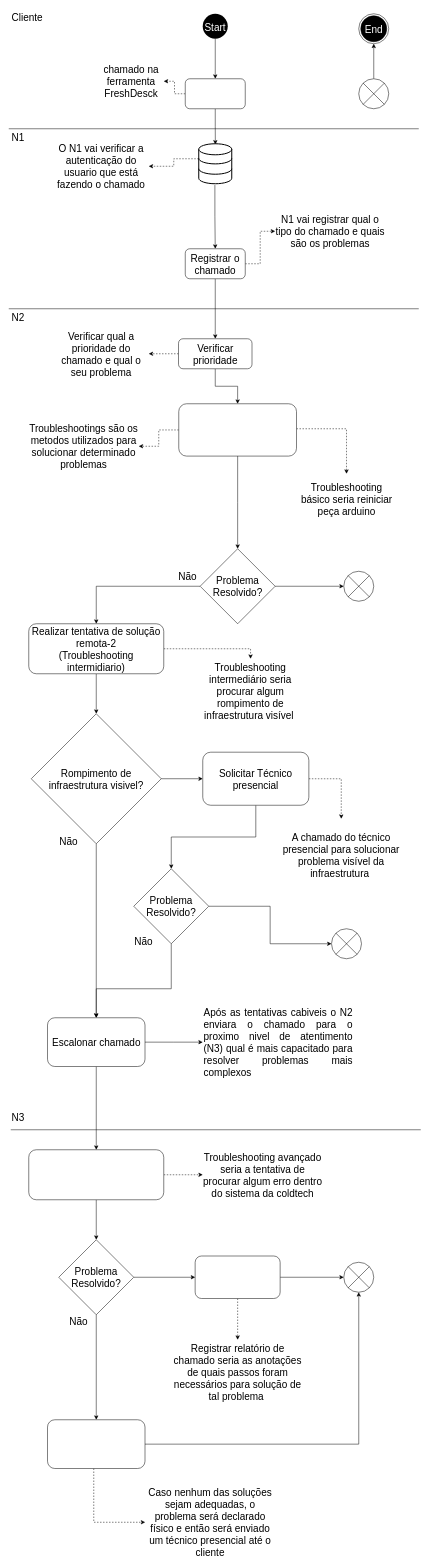
Some shapes in this 430 by 1567 pixel diagram are drawn without their labels. The centre of each missing label's shape, as x and y in pixels:
Enviar técnico de suporte: point (96, 1443)
Fazer o chamado: point (215, 93)
Realizar tentativa de solução remota-1 (Troubleshooting basico): point (237, 429)
Realizar tentativa de solução remota-3 (Troubleshooting avançado): point (96, 1174)
Registrar relatório de chamado: point (237, 1277)
Verificar usuario no Banco de dados: point (215, 163)
